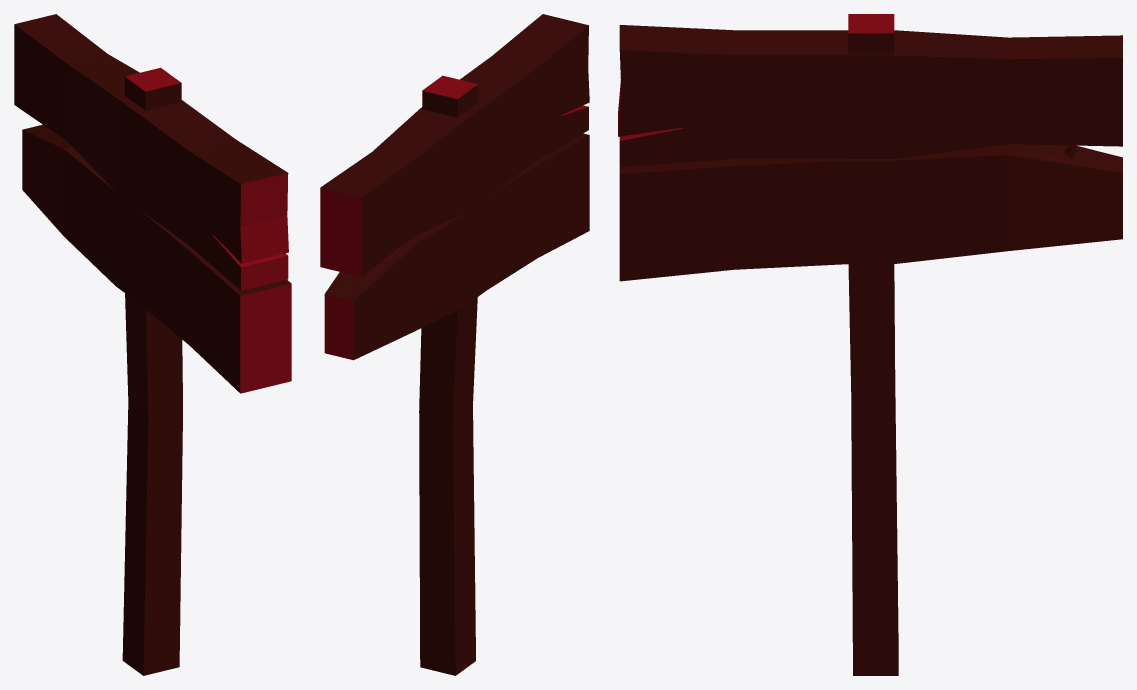
Rendered from signpost.glb.
3 views of the same model, side by side, from view 1: azimuth 30°, elevation 25°; view 2: azimuth 150°, elevation 25°; view 3: azimuth 270°, elevation 25° (orthographic). The views are drawn at different scales.
Visible parts, largest first — view 1: Cube; view 2: Cube; view 3: Cube.
Boxes of the visible parts, x1=… form: Cube: x1=14, y1=14, x2=291, y2=675; Cube: x1=320, y1=14, x2=589, y2=675; Cube: x1=618, y1=14, x2=1122, y2=675.
Bounding box in the file's own units: 0.5659 × 6.2 × 4.42.
Materials: 1 (1 with a texture image).
